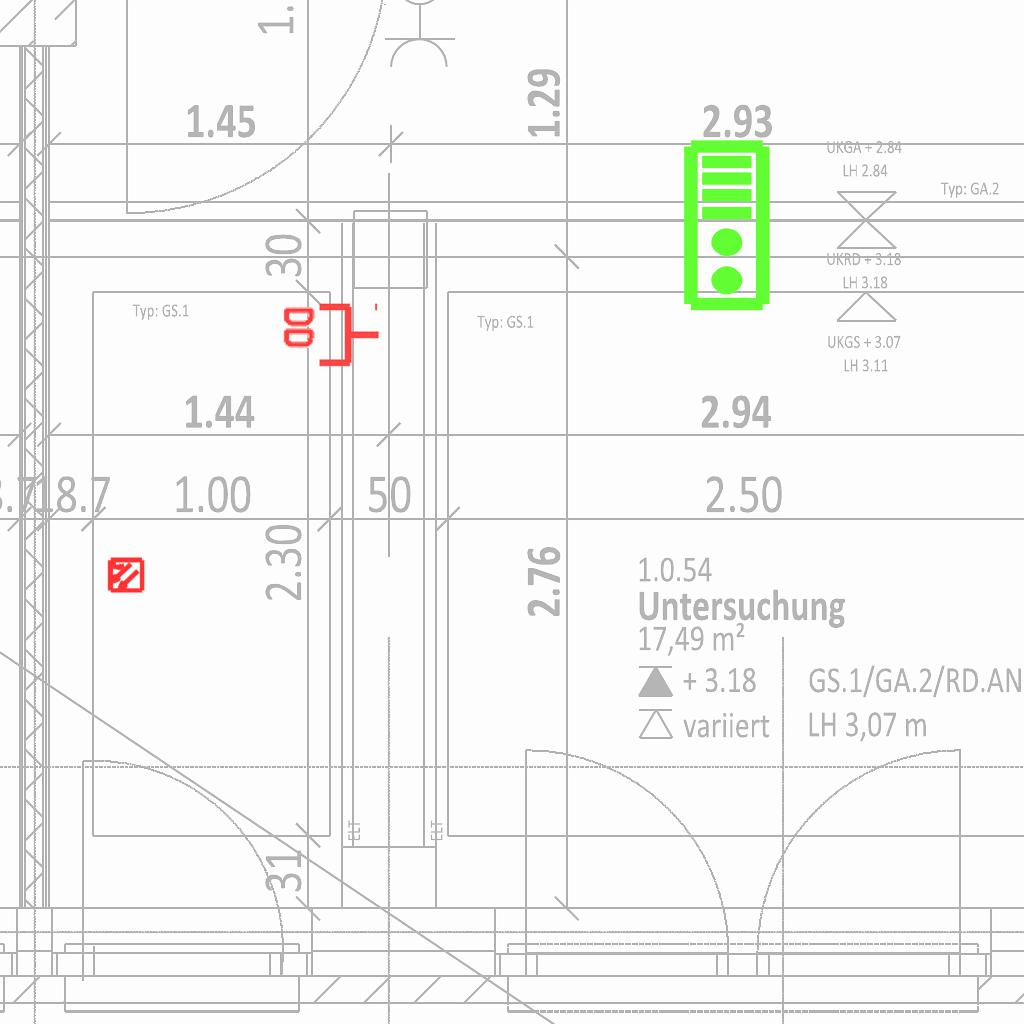Datenanschluss_zweifach: (279, 302, 382, 371)
Gegensprechanlage_mit_Video: (681, 138, 776, 314)
OT_Multisensormelder_(Kombination_RMO_WMD): (97, 547, 153, 603)
